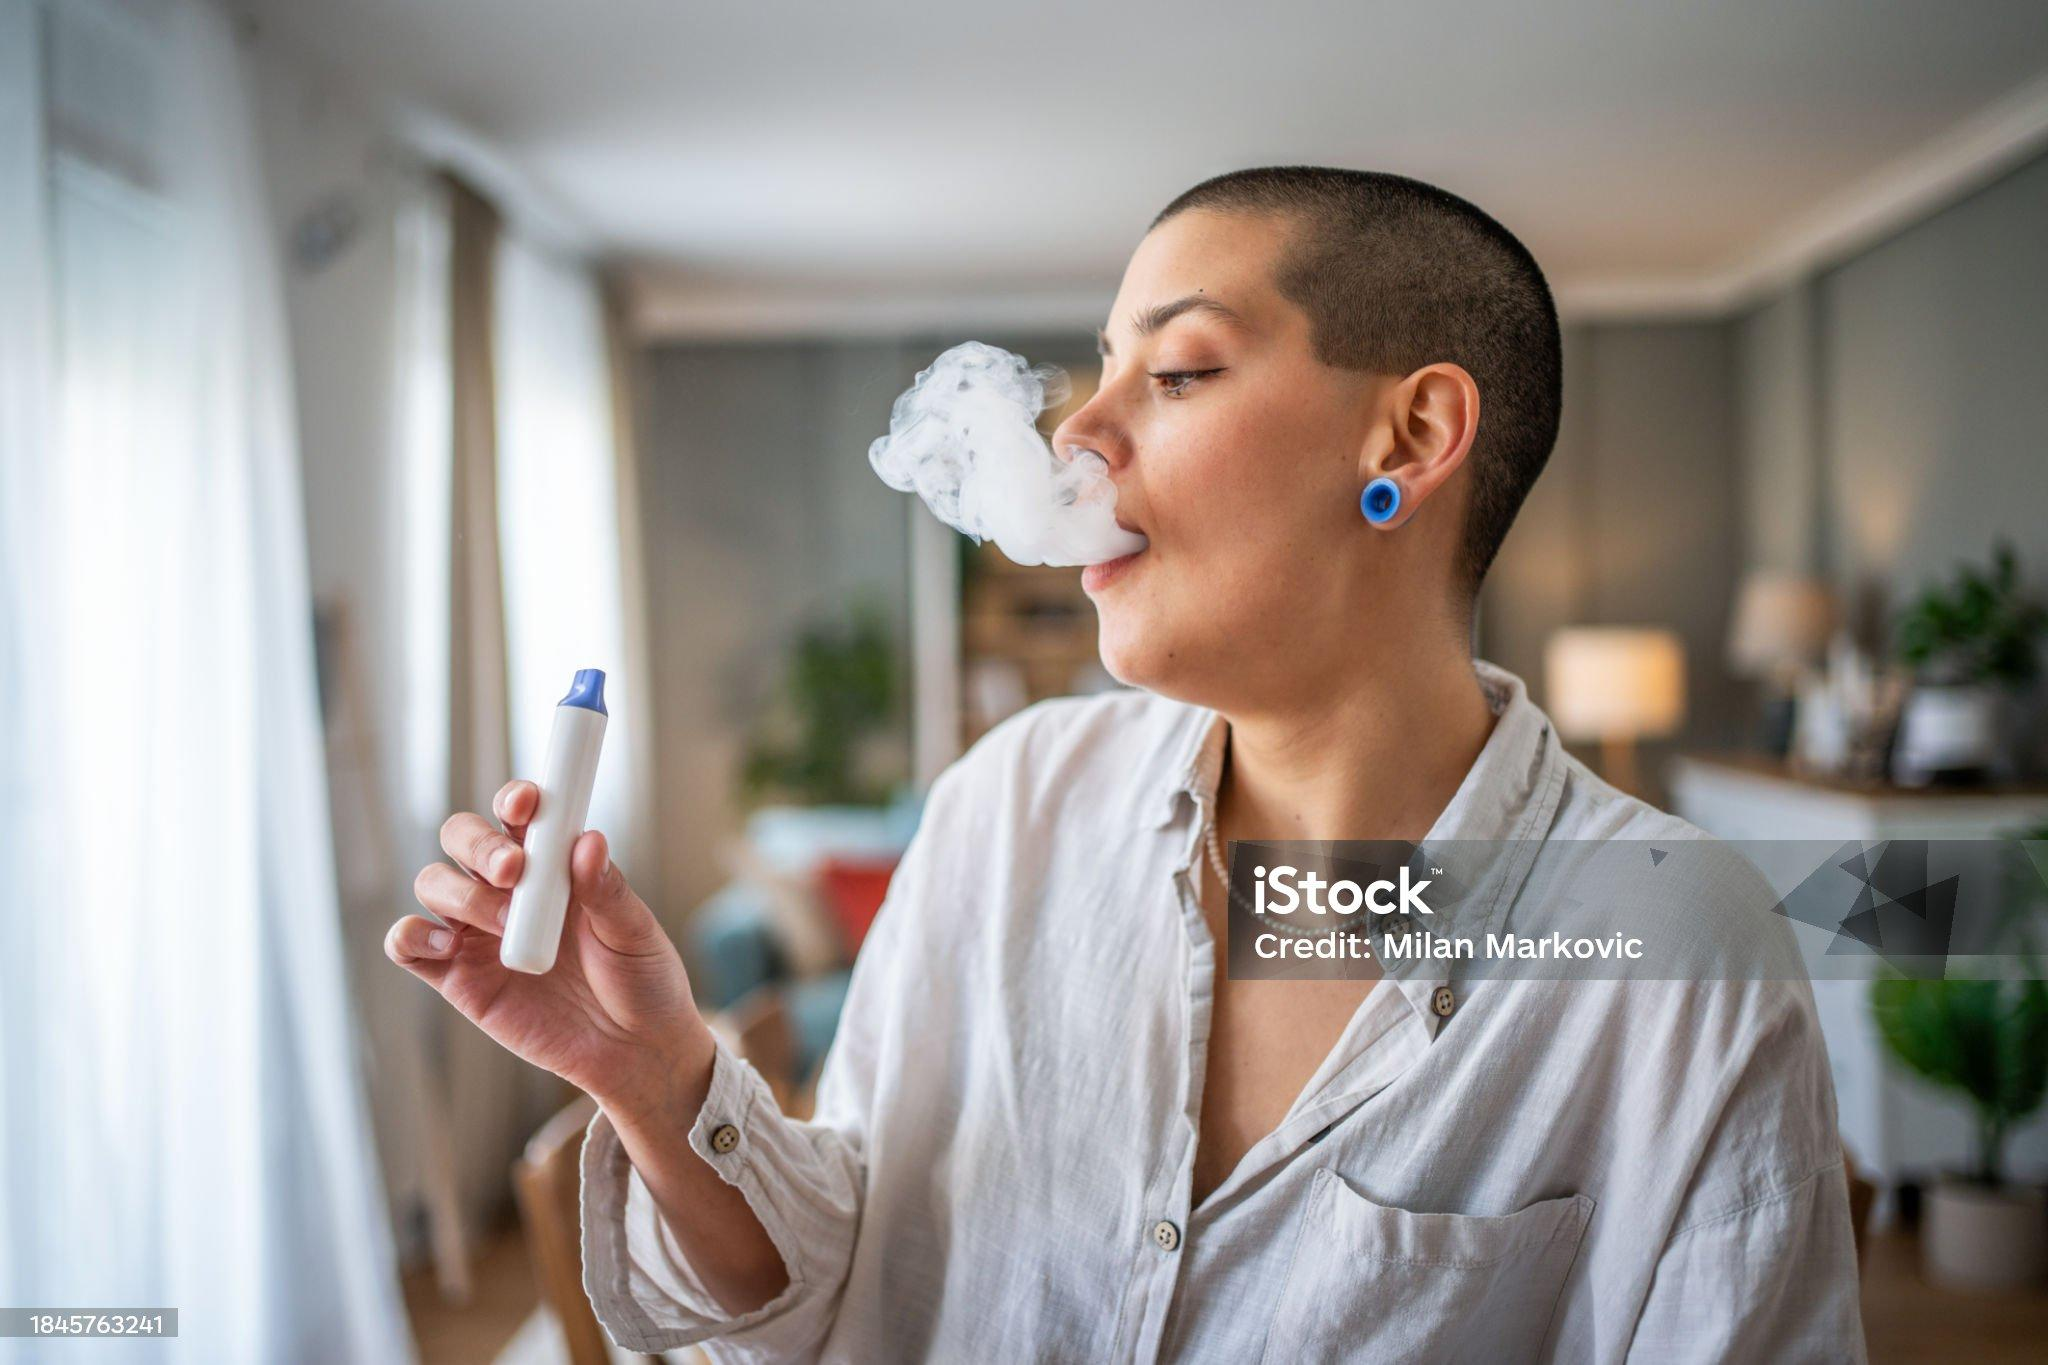Vape: (499, 667, 609, 975)
